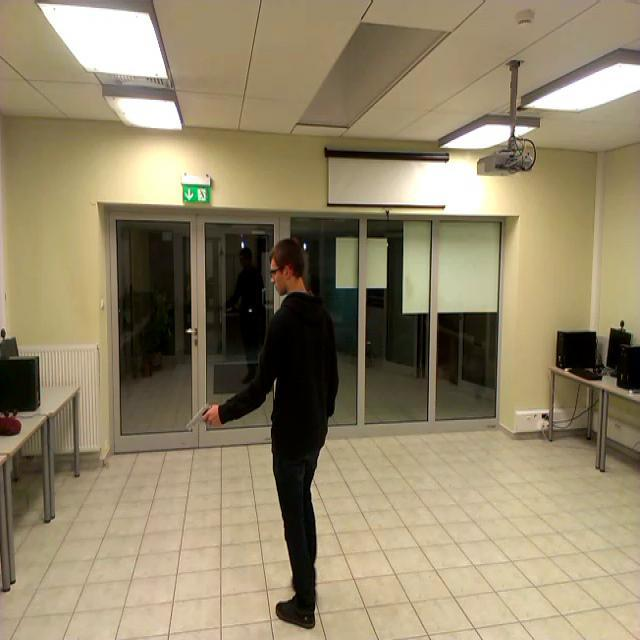Gun: (187, 402, 216, 429)
